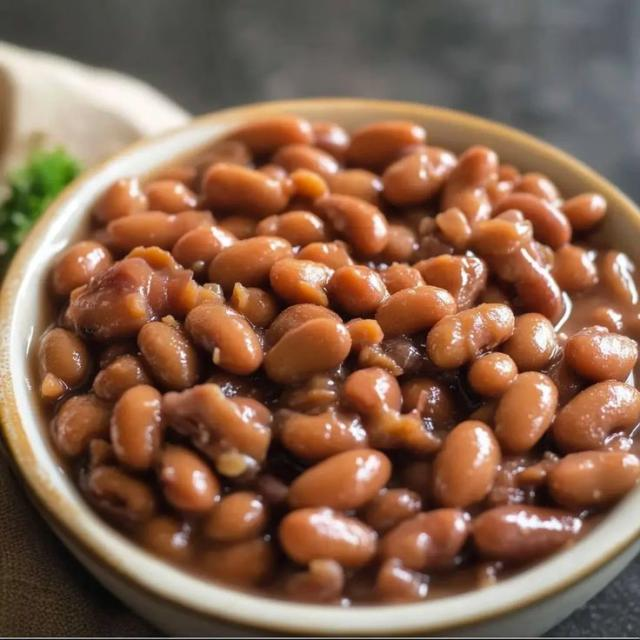beans: (37, 115, 639, 605), (472, 210, 564, 319), (163, 384, 271, 476), (67, 258, 167, 340), (288, 449, 391, 510), (473, 506, 581, 562), (553, 381, 639, 451), (280, 508, 376, 567), (265, 319, 351, 384), (434, 420, 499, 506), (427, 304, 513, 368), (380, 509, 468, 570), (186, 304, 262, 374), (548, 452, 639, 509), (495, 372, 558, 453), (209, 236, 293, 292), (204, 164, 289, 218), (441, 146, 498, 226), (315, 194, 387, 255), (280, 410, 367, 459), (107, 211, 213, 251), (494, 193, 571, 248), (111, 385, 161, 469), (383, 148, 455, 206), (138, 322, 199, 390), (376, 286, 456, 337), (159, 446, 219, 513), (414, 255, 487, 310), (565, 327, 638, 381), (347, 121, 426, 170), (87, 467, 155, 523), (38, 328, 91, 399), (53, 394, 109, 457), (202, 538, 274, 586), (228, 115, 313, 154), (173, 226, 237, 277), (53, 241, 113, 295), (203, 492, 266, 542), (503, 314, 557, 372), (327, 266, 388, 316), (267, 304, 341, 345), (270, 259, 333, 306), (342, 367, 402, 416), (443, 146, 498, 199), (472, 213, 532, 258), (94, 354, 151, 401), (401, 378, 454, 428), (93, 178, 149, 225), (364, 488, 421, 533), (280, 373, 340, 414), (256, 211, 326, 246), (140, 516, 193, 562), (286, 560, 344, 602), (272, 144, 339, 179), (375, 559, 428, 602), (468, 353, 517, 397), (229, 283, 278, 327), (553, 245, 598, 292), (599, 251, 638, 304), (198, 140, 252, 177), (329, 169, 382, 206), (146, 180, 197, 213), (562, 194, 606, 231), (435, 207, 472, 250), (298, 241, 353, 269), (378, 224, 417, 263), (514, 173, 559, 205), (400, 461, 433, 503), (312, 122, 349, 159), (380, 264, 425, 294), (289, 169, 329, 202), (346, 319, 384, 351), (99, 340, 137, 369), (254, 474, 288, 506), (154, 166, 198, 189), (589, 306, 624, 333), (219, 215, 256, 239), (258, 164, 288, 184)
